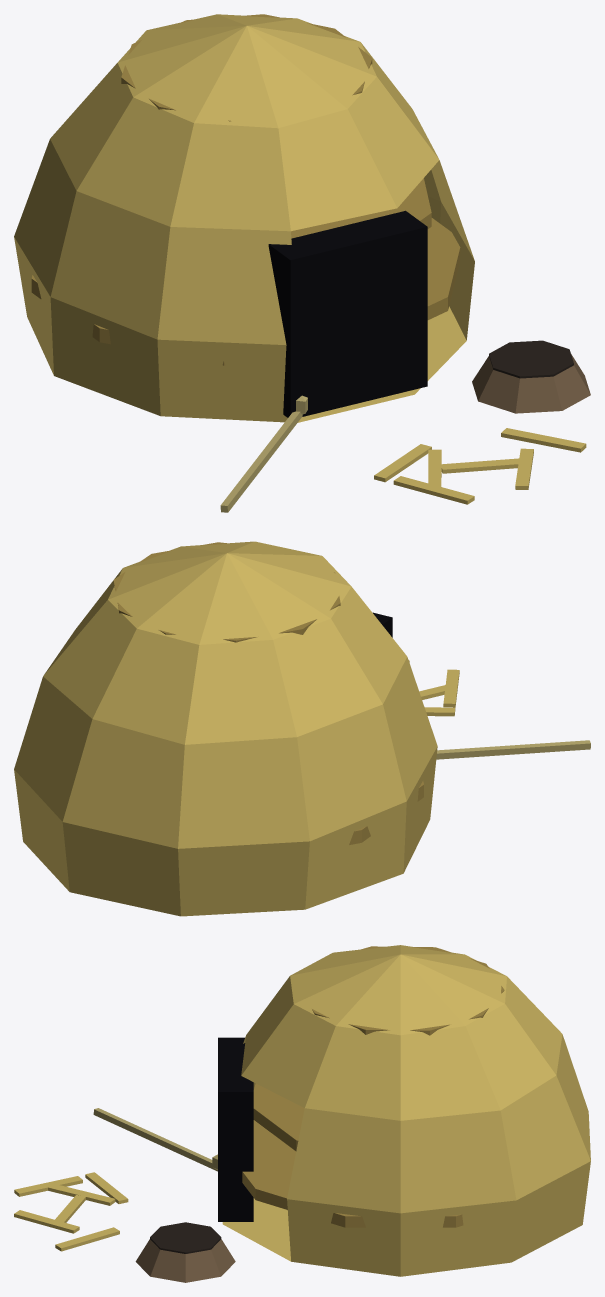
File: prop_gaejip_empty.glb
3 views of the same model, one above another, from view 1: azimuth 30°, elevation 25°; view 2: azimuth 150°, elevation 25°; view 3: azimuth 270°, elevation 25° (orthographic). The views are drawn at different scales.
Parts seen in each view (by area): view 1: prop_gaejip_empty; view 2: prop_gaejip_empty; view 3: prop_gaejip_empty.
Boxes of the visible parts, x1=… form: prop_gaejip_empty: x1=14, y1=14, x2=590, y2=512; prop_gaejip_empty: x1=14, y1=541, x2=590, y2=916; prop_gaejip_empty: x1=14, y1=945, x2=590, y2=1282.
Bounding box in the file's own units: 1.1 × 0.76 × 1.61.
